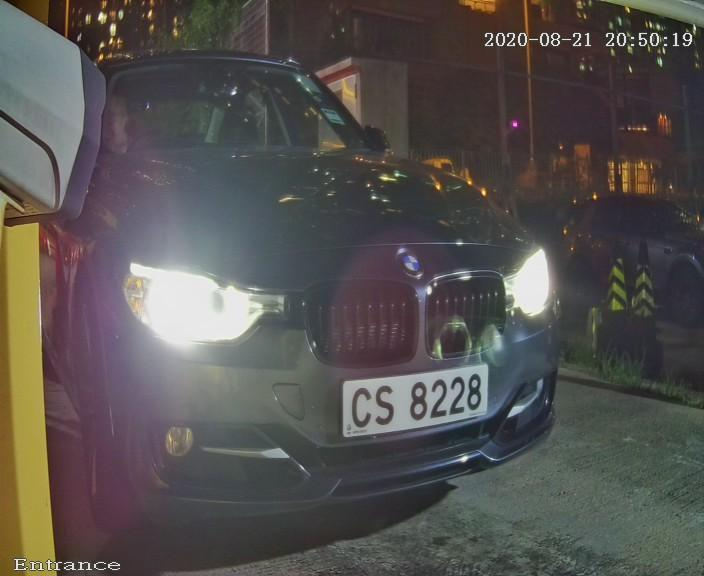Car: (10, 3, 613, 548)
License Plate: (328, 355, 497, 460)
